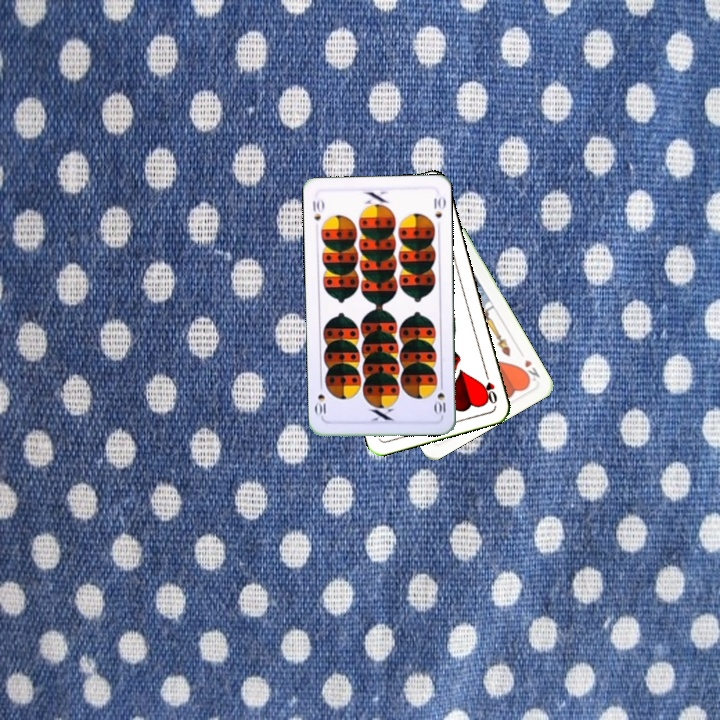HK: (517, 355, 542, 385)
HO: (480, 367, 500, 407)
S10: (432, 378, 448, 417), (308, 195, 326, 223)
